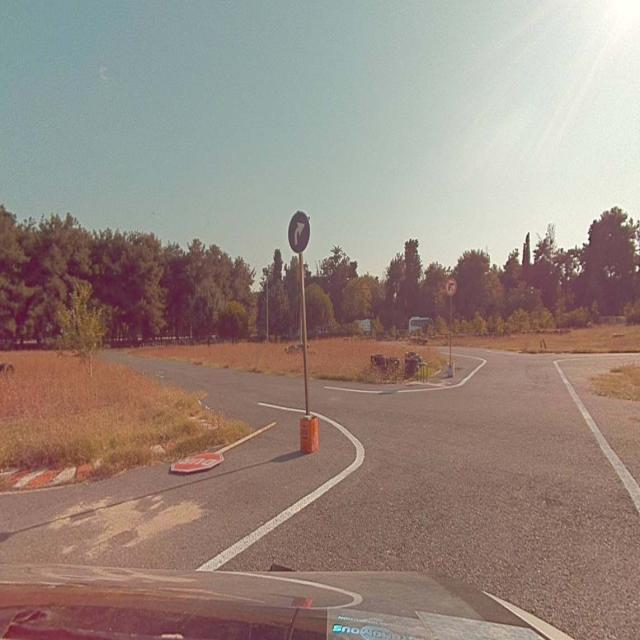sag: (288, 210, 310, 250)
sagadonulmez: (446, 277, 456, 296)
